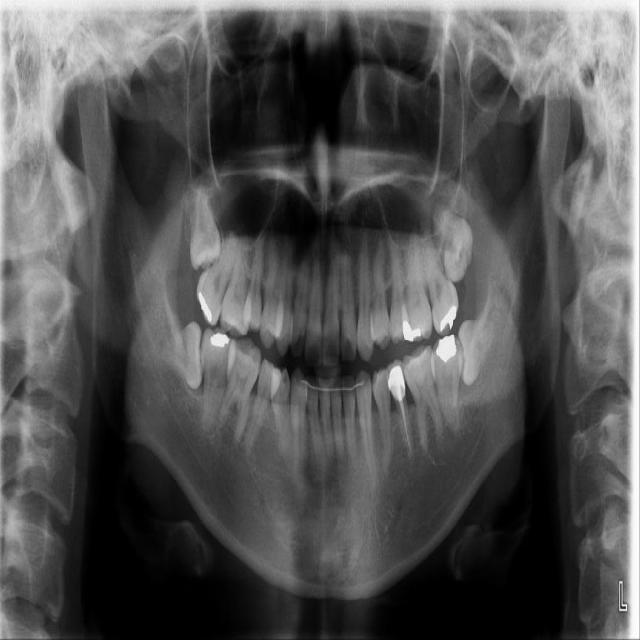Crown: (387, 359, 406, 400)
Filling: (436, 335, 457, 363), (197, 292, 212, 322), (440, 306, 456, 332), (403, 320, 421, 343), (210, 332, 231, 346)
Root Canal Treatment: (401, 405, 412, 454)
impacted tooth: (429, 199, 471, 280), (151, 323, 201, 388), (459, 315, 501, 385), (188, 176, 219, 270)
